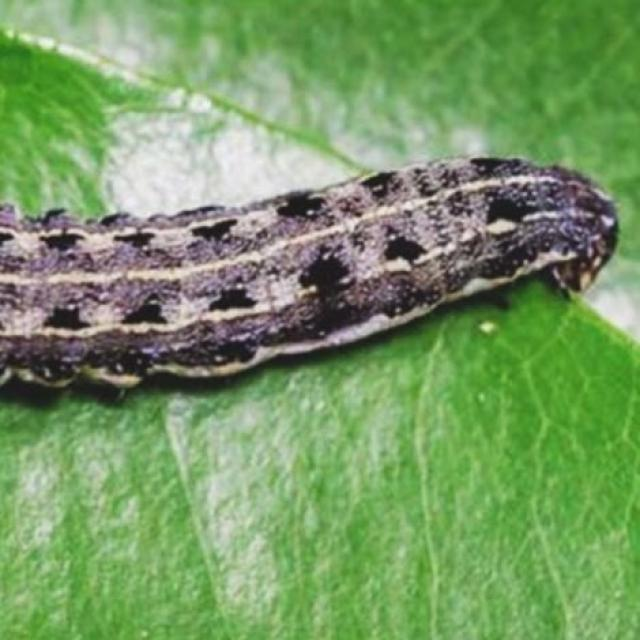worm: (1, 152, 621, 400)
